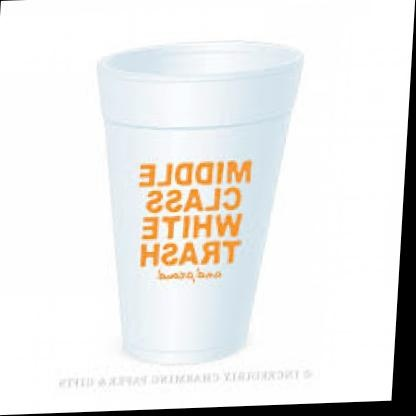trash: (99, 41, 302, 362)
